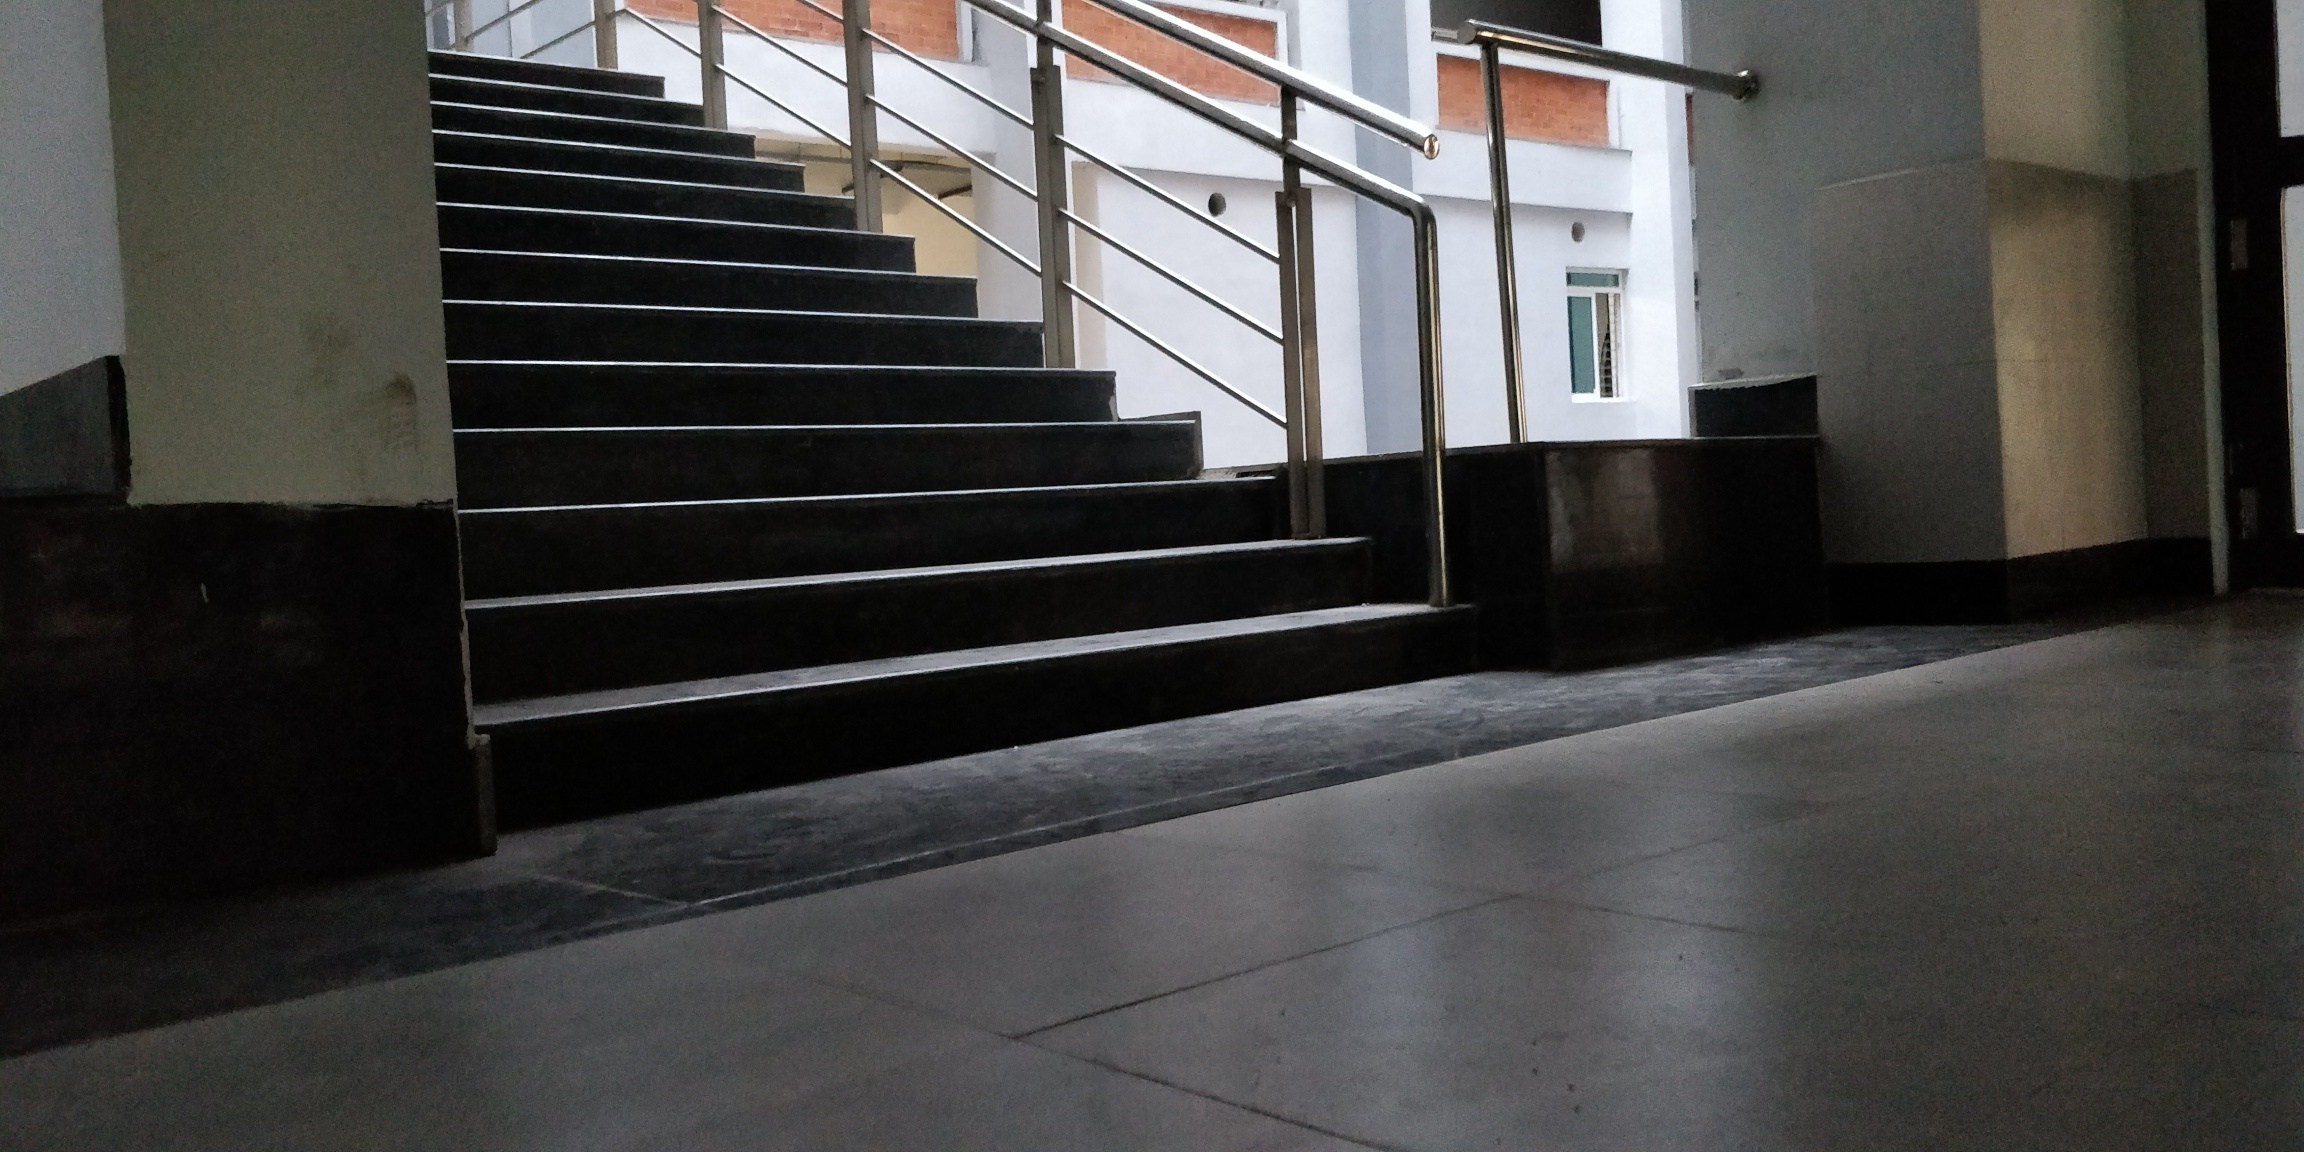stairs_up: (428, 44, 1474, 760)
